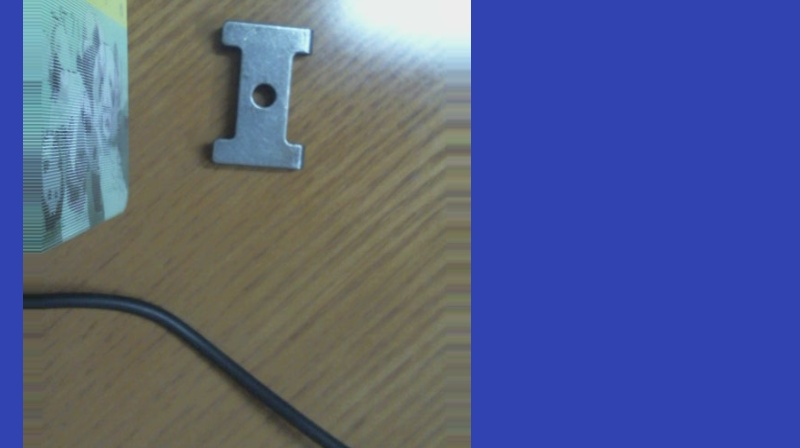O002: (208, 16, 311, 175)
